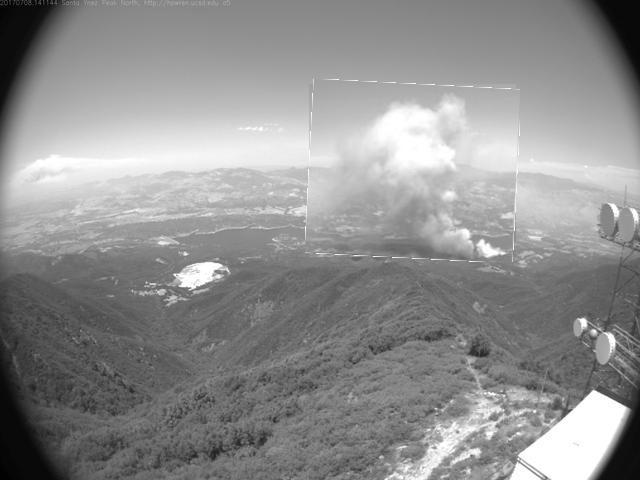smoke: (308, 83, 520, 262)
